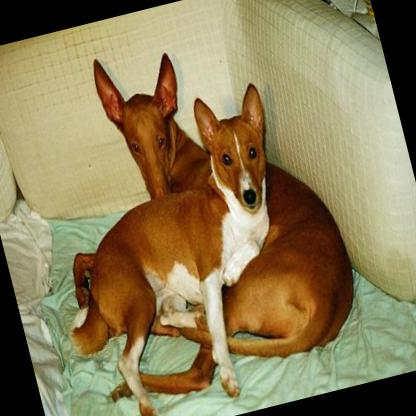basenji: (17, 6, 372, 416), (15, 75, 334, 416)
